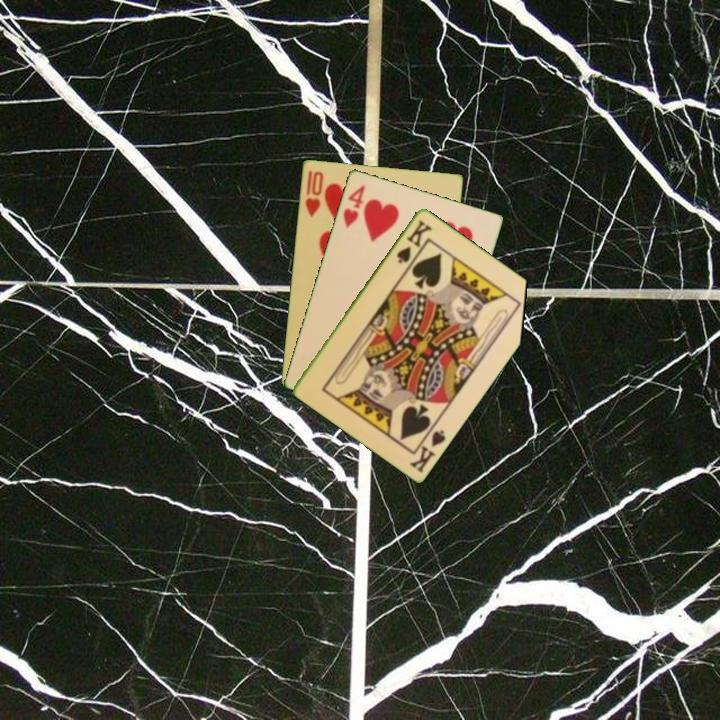10h: (301, 166, 326, 220)
4h: (339, 181, 368, 231)
Ks: (406, 419, 449, 475), (393, 216, 435, 266)
